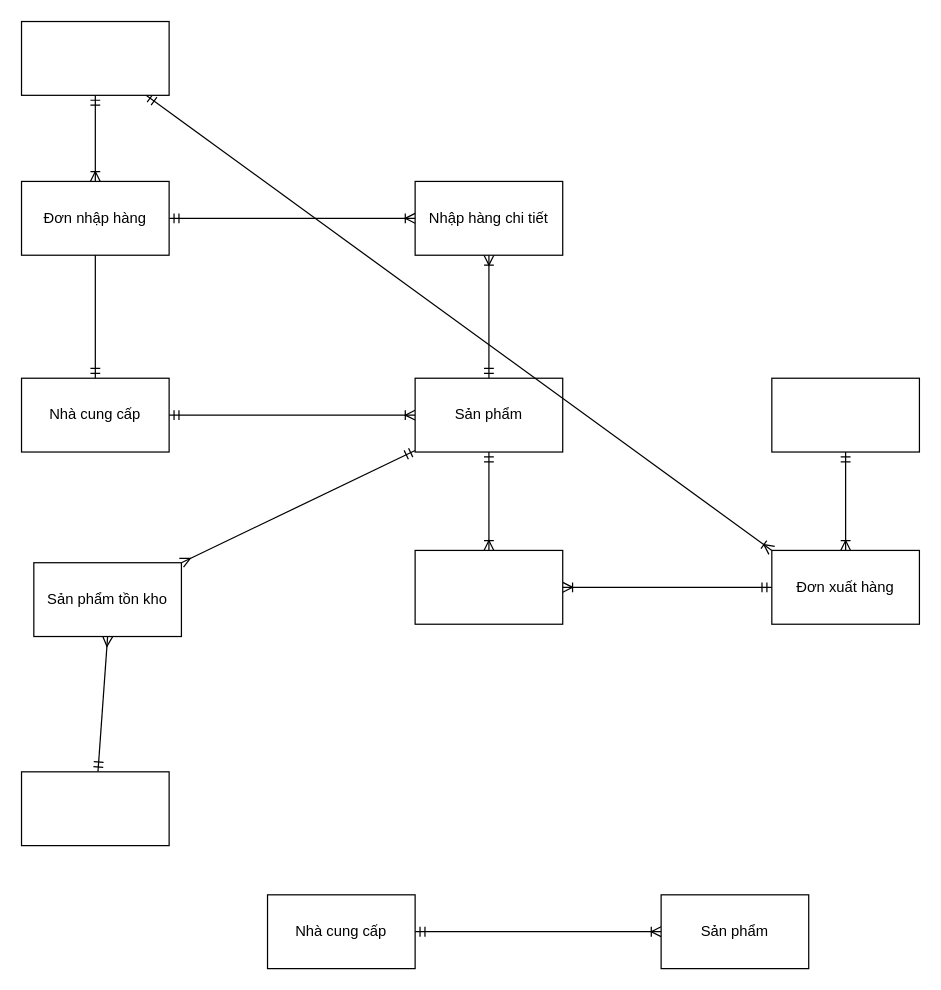
The diagram is 941 pixels wide and 990 high, and some of its shapes have lost their labels. The box of each missing label's shape, as (x1, y1, x2, y2) in pixels:
Kho: (20, 771, 169, 846)
Khách hàng: (771, 377, 919, 452)
Nhân Viên: (20, 20, 169, 95)
Xuất hàng chi tiết: (414, 549, 563, 624)
